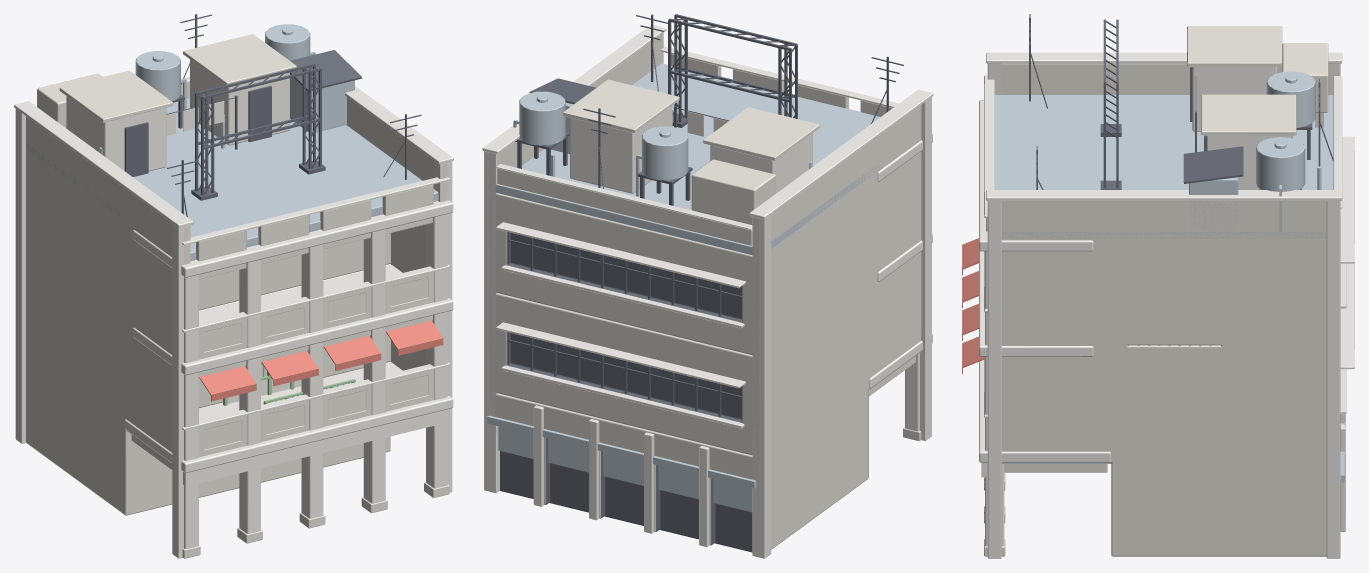
Rendered from chunghwa.glb.
3 renders of one model, left to right at view 1: azimuth 30°, elevation 25°; view 2: azimuth 150°, elevation 25°; view 3: azimuth 270°, elevation 25°, orthographic. The views are drawn at different scales.
Visible parts, largest first — view 1: block, neon, bridge; view 2: block, neon; view 3: block, neon.
Part boxes in pixels (x1=…): block: x1=14, y1=14, x2=453, y2=558; neon: x1=191, y1=63, x2=325, y2=200; bridge: x1=222, y1=362, x2=355, y2=411; block: x1=482, y1=14, x2=933, y2=558; neon: x1=668, y1=14, x2=797, y2=127; block: x1=962, y1=14, x2=1354, y2=558; neon: x1=1100, y1=19, x2=1121, y2=189.
Bounding box in the file's own units: 9.75 × 13.63 × 11.13.
